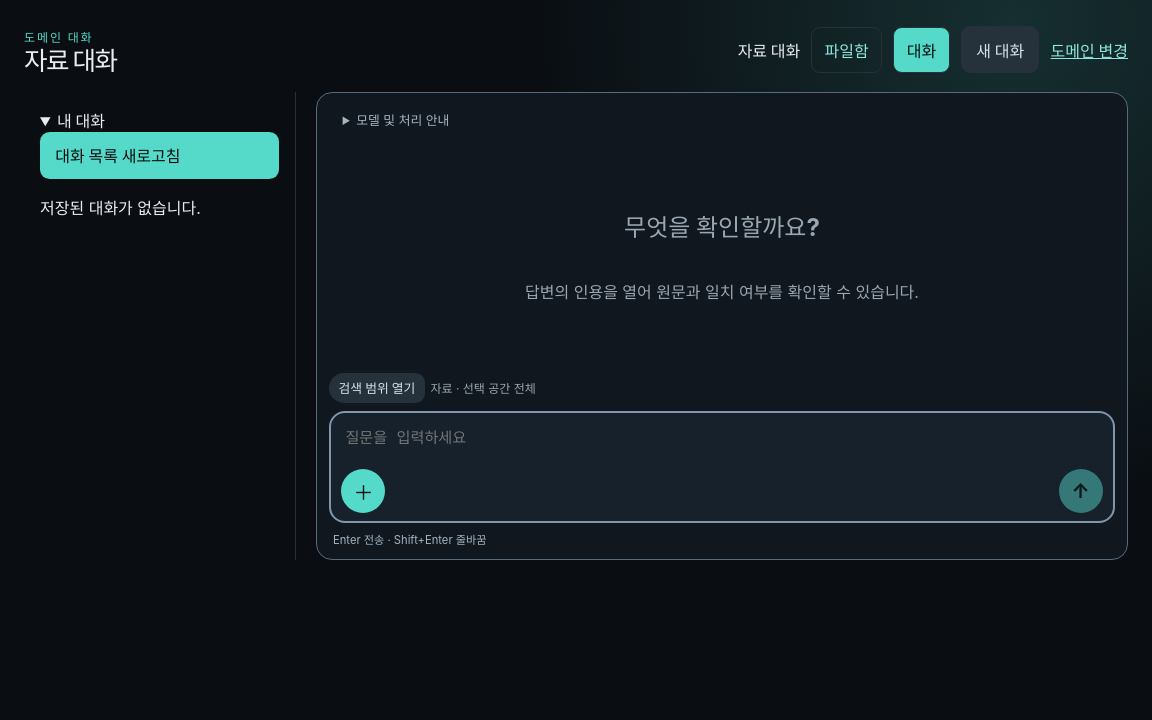
Scenario: creates a session, sends diagnostics without client history, and cancels the server request
Type "새 질문" into the text box labelled "질문".
click(722, 441); type("새 질문")  # box [341,421,1103,461]
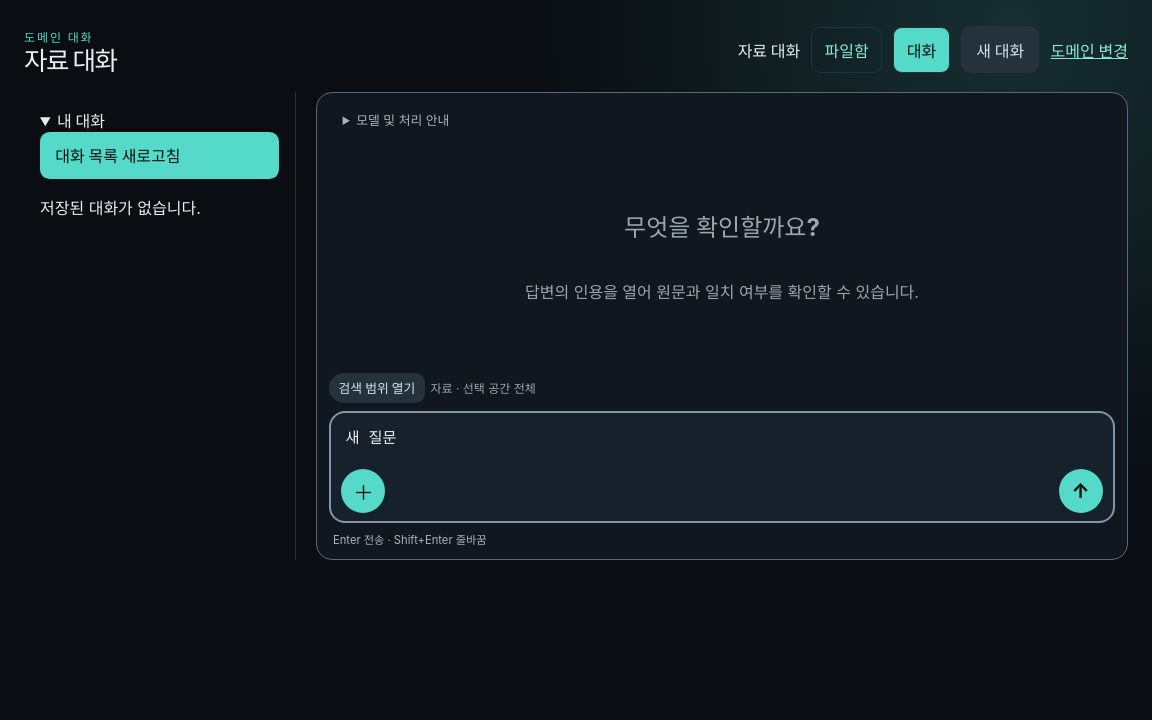
Click the button named "질문 보내기".
click(1081, 491)  # box [1059,469,1103,513]
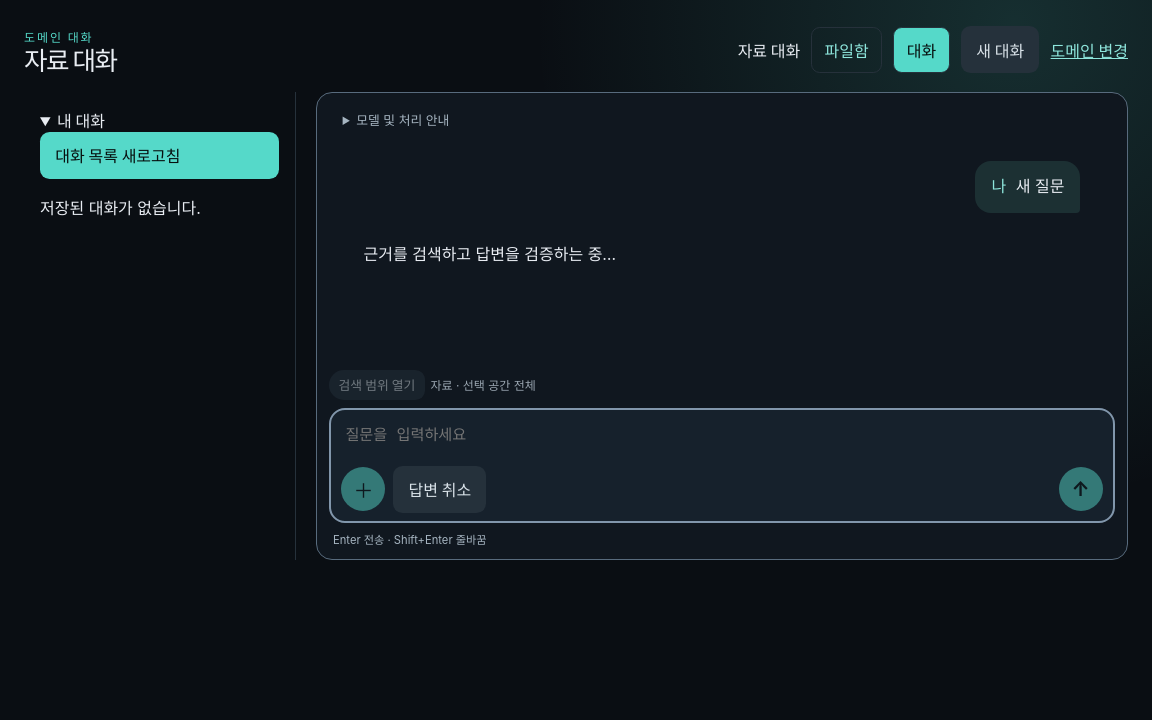
Click the button "답변 취소".
click(440, 490)  # box [393,466,486,513]
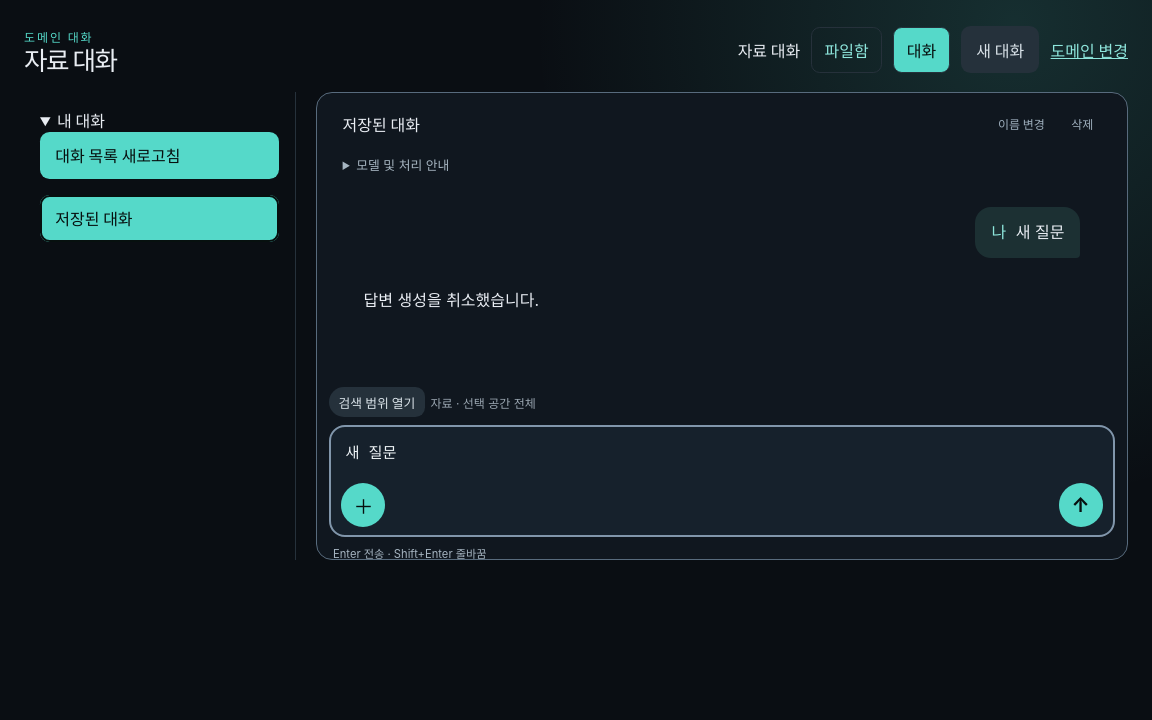
Expected: the text "답변 생성을 취소했습니다." is shown, [364,290,539,310]
